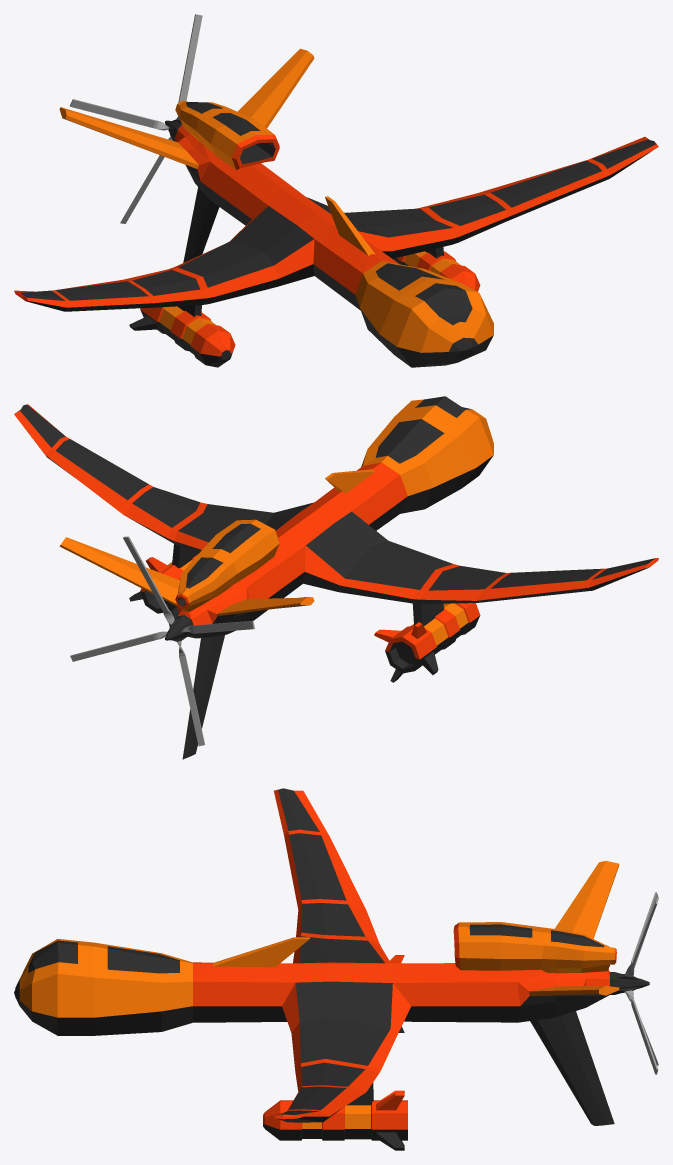
Rendered from Dron.fbx.
3 renders of one model, top to bottom at view 1: azimuth 30°, elevation 25°; view 2: azimuth 150°, elevation 25°; view 3: azimuth 270°, elevation 25°, orthographic. The views are drawn at different scales.
Parts seen in each view (by area): view 1: Dron, MisileRight, HeliceDron, MisileLeft; view 2: Dron, MisileRight, HeliceDron, MisileLeft; view 3: Dron, MisileLeft, HeliceDron.
Boxes of the visible parts, x1,y1,x2,y2 form: Dron: (14,48,658,367); MisileRight: (129,306,235,367); HeliceDron: (70,14,202,223); MisileLeft: (393,251,480,291); Dron: (14,396,658,759); MisileRight: (374,603,480,682); HeliceDron: (70,536,254,746); MisileLeft: (129,554,197,626); Dron: (14,788,619,1125); MisileLeft: (263,1090,407,1150); HeliceDron: (610,892,658,1074).
Size of the model in its own units: 1359 by 470 by 1131.
